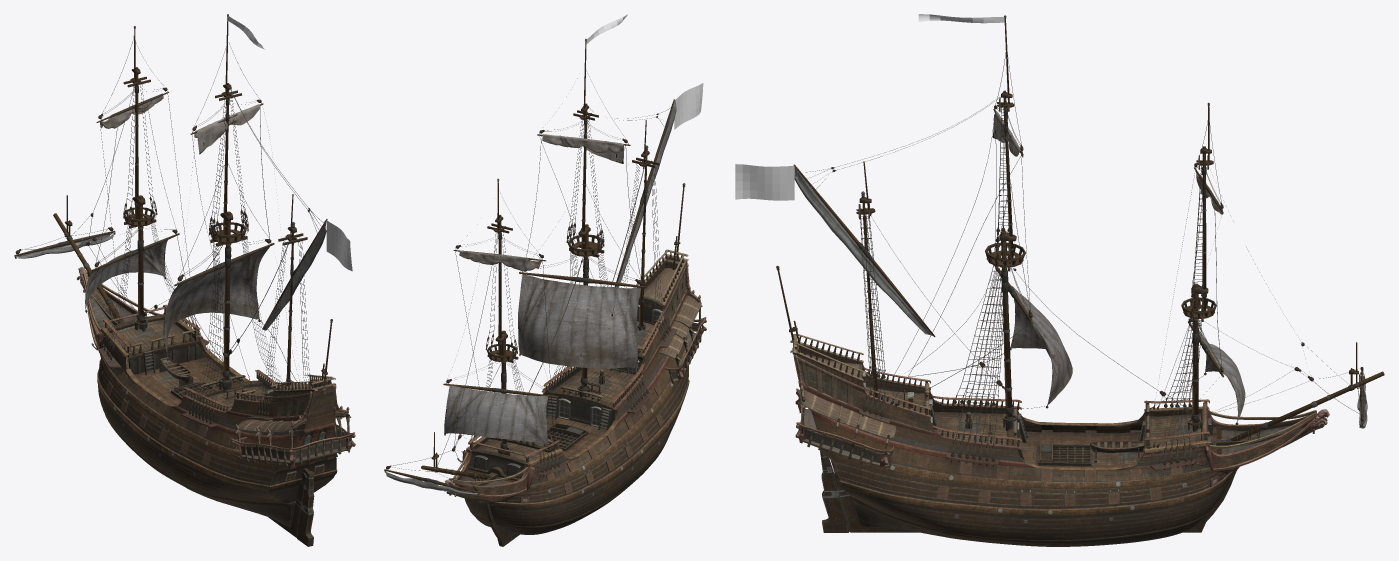
File: dutch_ship_large_01.gltf
3 views of the same model, side by side, from view 1: azimuth 30°, elevation 25°; view 2: azimuth 150°, elevation 25°; view 3: azimuth 270°, elevation 25° (orthographic). The views are drawn at different scales.
Visible parts, largest first — view 1: dutch_ship_large_01_hull, dutch_ship_large_01_rigging, Sail_2, Sail_0, Sail_3, Flag, Sail_1; view 2: dutch_ship_large_01_hull, dutch_ship_large_01_rigging, Sail_2, Sail_0, Sail_3, Sail_1, Flag; view 3: dutch_ship_large_01_hull, dutch_ship_large_01_rigging, Sail_2, Flag, Sail_0.
Boxes of the visible parts, <box> form: dutch_ship_large_01_hull: <box>77,267,355,546</box>; dutch_ship_large_01_rigging: <box>14,14,332,433</box>; Sail_2: <box>163,246,269,356</box>; Sail_0: <box>85,240,167,308</box>; Sail_3: <box>194,104,260,154</box>; Flag: <box>326,220,352,271</box>; Sail_1: <box>100,93,163,128</box>; dutch_ship_large_01_hull: <box>444,249,706,546</box>; dutch_ship_large_01_rigging: <box>384,39,685,495</box>; Sail_2: <box>518,274,641,368</box>; Sail_0: <box>444,385,548,444</box>; Sail_3: <box>542,134,624,163</box>; Sail_1: <box>459,250,541,271</box>; Flag: <box>674,83,703,129</box>; dutch_ship_large_01_hull: <box>790,334,1329,546</box>; dutch_ship_large_01_rigging: <box>776,15,1384,475</box>; Sail_2: <box>1010,286,1072,405</box>; Flag: <box>735,164,794,200</box>; Sail_0: <box>1199,331,1245,421</box>.
Size of the model in its own units: 8.39 by 32.08 by 36.55.
Materials: 4 (3 with a texture image).
